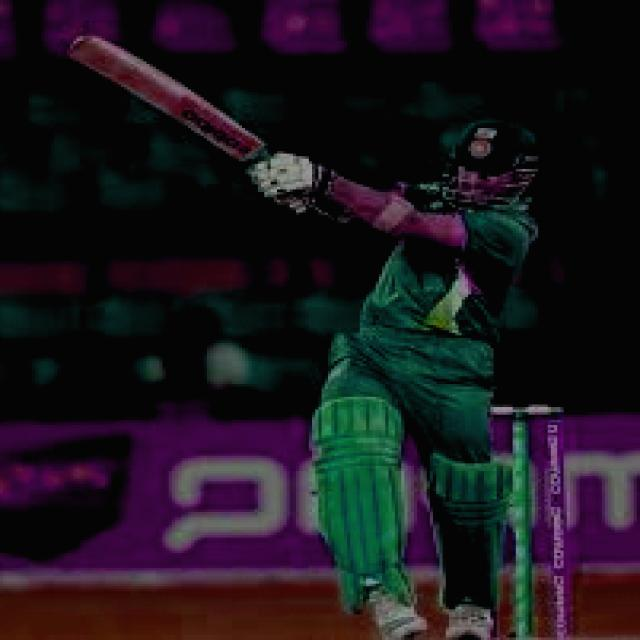toe: (58, 32, 115, 73)
